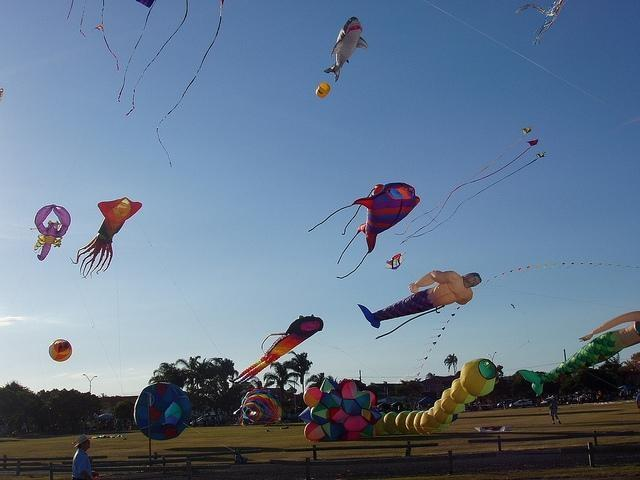car: (540, 394, 560, 406), (509, 400, 528, 407), (576, 394, 588, 404)
